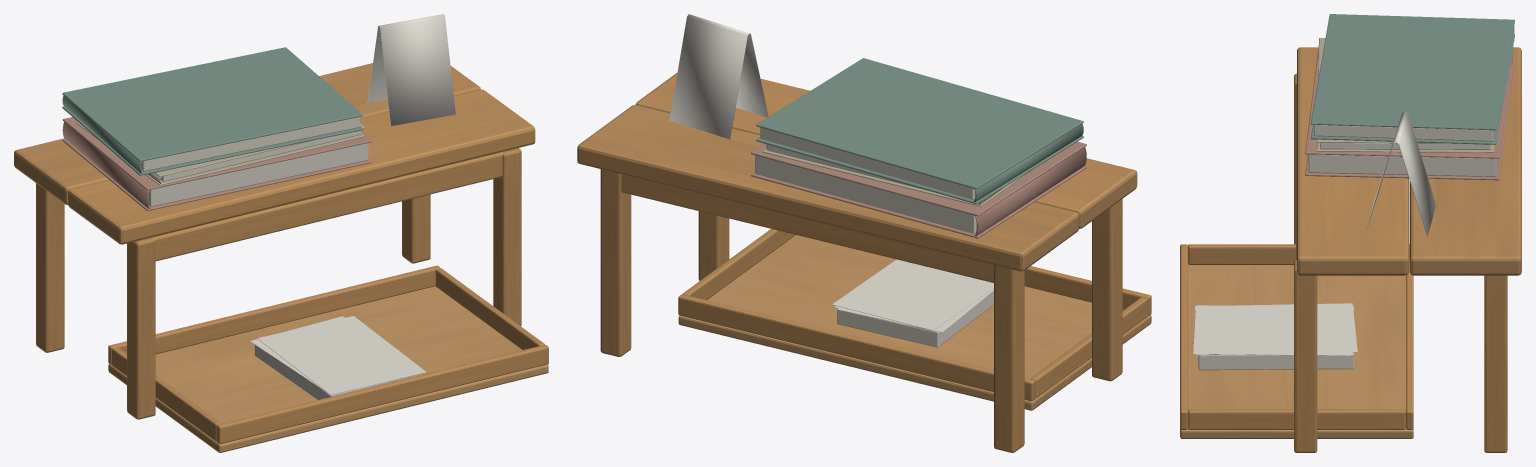
File: paper-display-set.glb
3 renders of one model, left to right at view 1: azimuth 30°, elevation 25°; view 2: azimuth 150°, elevation 25°; view 3: azimuth 270°, elevation 25°, orthographic. The views are drawn at different scales.
Visible parts, largest first — view 1: paper-foundation-v1/tiered-riser, paper-foundation-v1/shallow-tray, paper-foundation-v1/book-stack, paper-foundation-v1/paper-stack, paper-foundation-v1/folded-card; view 2: paper-foundation-v1/tiered-riser, paper-foundation-v1/book-stack, paper-foundation-v1/shallow-tray, paper-foundation-v1/paper-stack, paper-foundation-v1/folded-card; view 3: paper-foundation-v1/tiered-riser, paper-foundation-v1/book-stack, paper-foundation-v1/shallow-tray, paper-foundation-v1/paper-stack, paper-foundation-v1/folded-card.
Part boxes in pixels (left/top/right/bottom): paper-foundation-v1/tiered-riser: left=14, top=63, right=535, bottom=419; paper-foundation-v1/shallow-tray: left=108, top=265, right=548, bottom=452; paper-foundation-v1/book-stack: left=62, top=47, right=371, bottom=210; paper-foundation-v1/paper-stack: left=250, top=316, right=426, bottom=399; paper-foundation-v1/folded-card: left=367, top=14, right=455, bottom=126; paper-foundation-v1/tiered-riser: left=577, top=72, right=1137, bottom=452; paper-foundation-v1/book-stack: left=751, top=58, right=1086, bottom=238; paper-foundation-v1/shallow-tray: left=678, top=229, right=1151, bottom=410; paper-foundation-v1/paper-stack: left=832, top=259, right=993, bottom=347; paper-foundation-v1/folded-card: left=669, top=14, right=768, bottom=139; paper-foundation-v1/tiered-riser: left=1294, top=47, right=1521, bottom=452; paper-foundation-v1/book-stack: left=1305, top=14, right=1514, bottom=180; paper-foundation-v1/shallow-tray: left=1180, top=244, right=1413, bottom=438; paper-foundation-v1/paper-stack: left=1193, top=303, right=1357, bottom=370; paper-foundation-v1/folded-card: left=1365, top=111, right=1436, bottom=236.
Size of the model in its own units: 0.58 by 0.3785 by 0.395.
9 materials, 4 textured.
